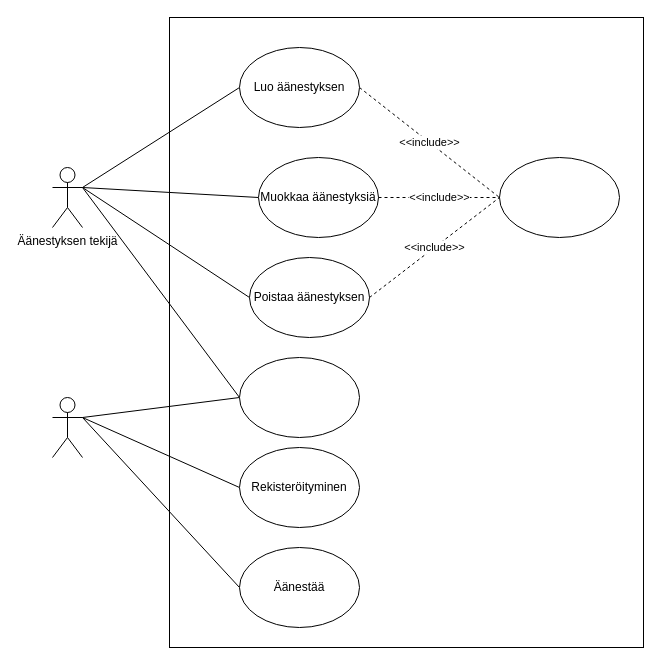
The diagram is 661 pixels wide and 665 high, and some of its shapes have lost their labels. Each missing label, with the centre of its shape:
Kirjautuminen: (559,197)
Selaa äänestyksiä: (299,397)
Äänestäjä: (67,427)
